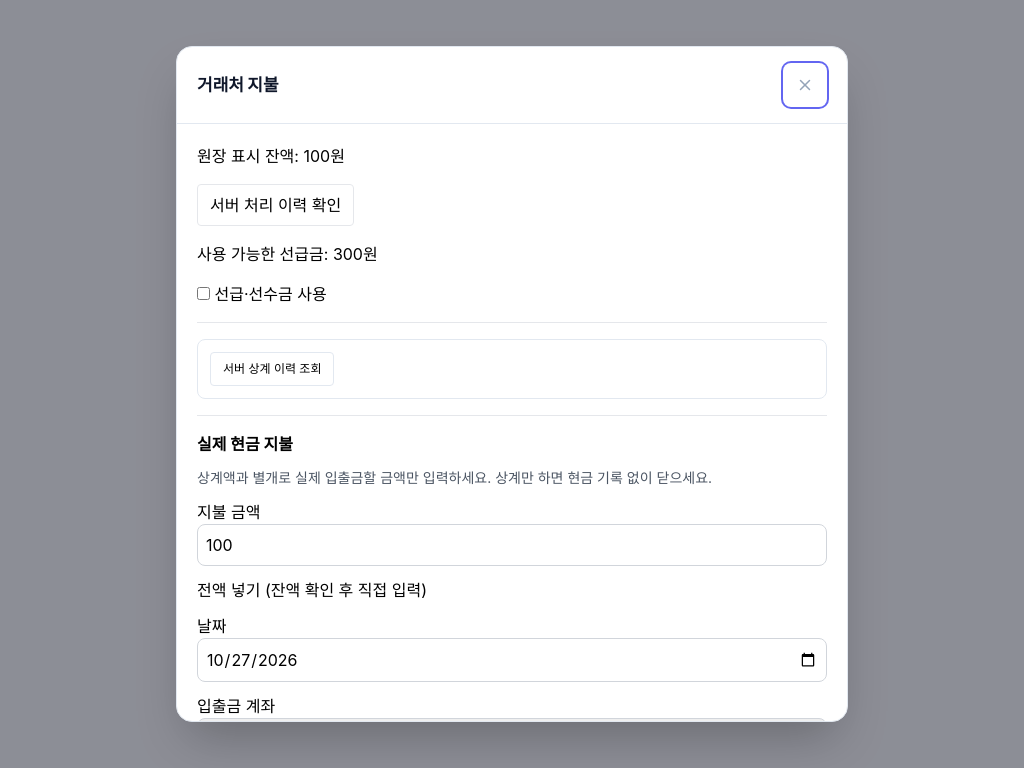
적용금액은이번정산기준과원천잔액한도에서제안하고미선택시100복귀
What coordinates should you click on to do the following:
click the checkbox labelled "선급·선수금 사용"
I would click on:
 (204, 294)
Its box is [197,287,210,300].
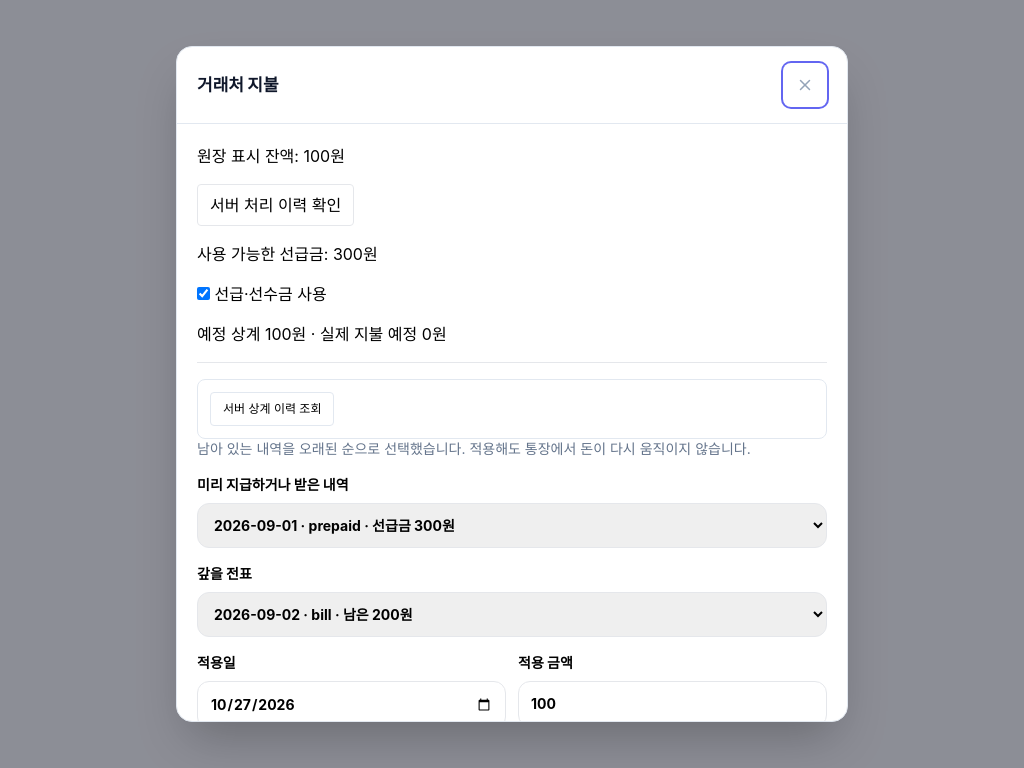
Expected: the field labelled "적용 금액" holds "100", [518,681,827,721]
What coordinates should you click on to do the following:
click the checkbox labelled "선급·선수금 사용"
I would click on:
 (204, 294)
Its box is [197,287,210,300].
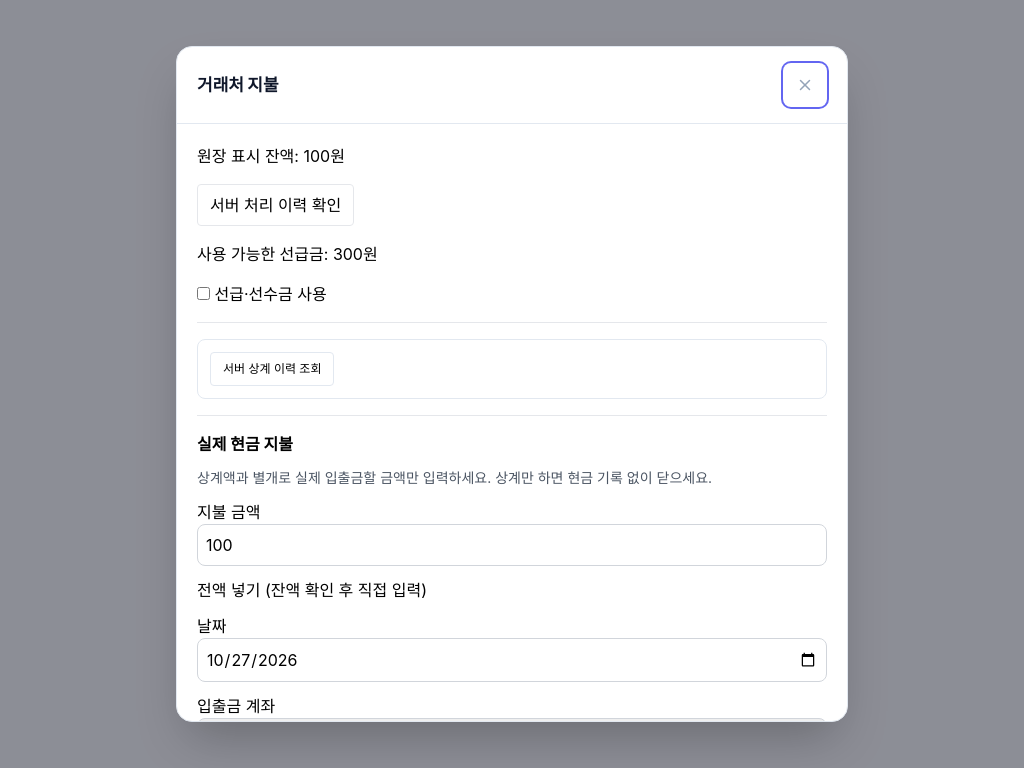
Expected: the field labelled "지불 금액" holds "100", [197,524,827,566]
